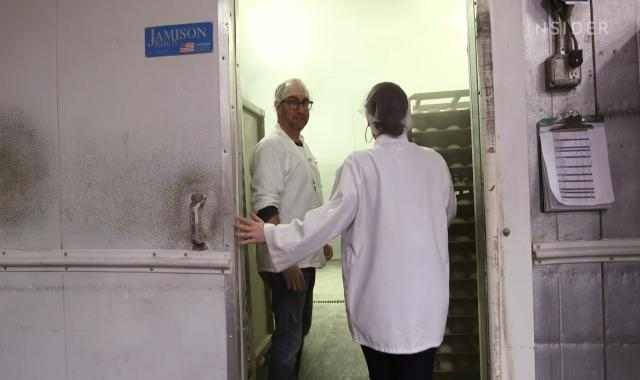hairnet: (360, 82, 414, 138), (271, 76, 312, 109)
